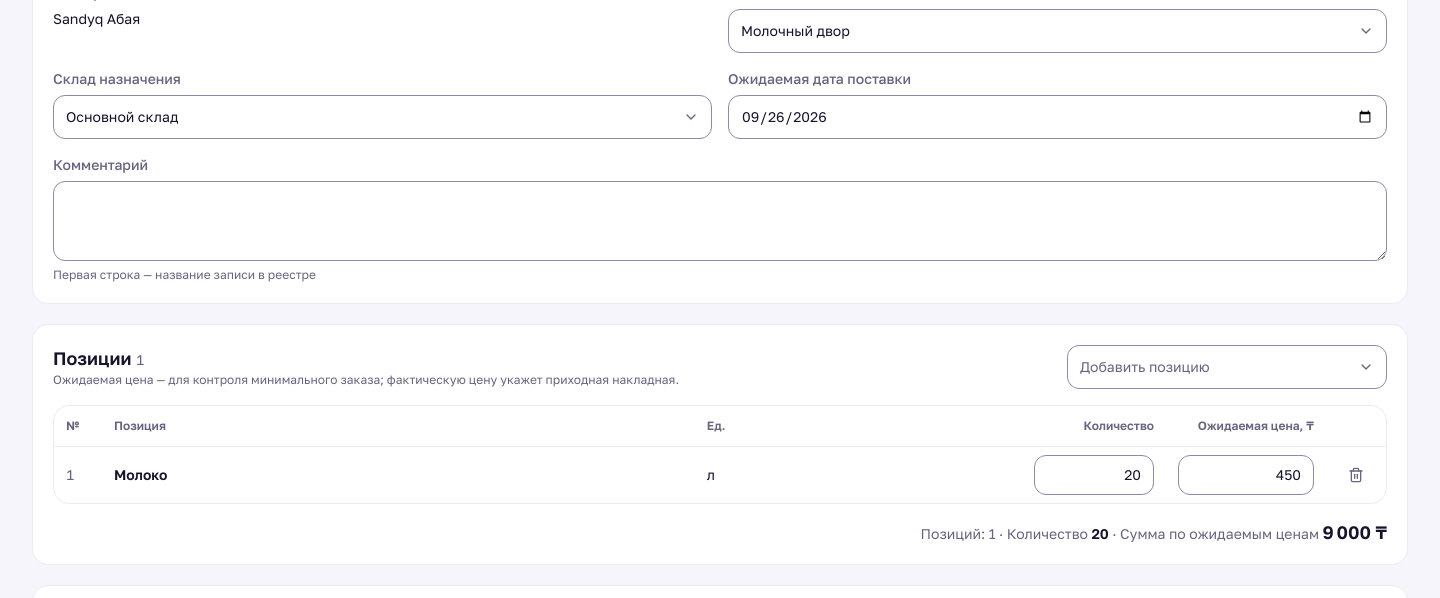
Test case: «Заказы поставщикам» (W2-PRD-06) › a saved draft shows the minimum-order warning
(page scrolled)
Replace the text in the field named "Ожидаемая цена — Молоко" with "400" at (1246, 474), box [1178, 454, 1314, 494]
(page scrolled)
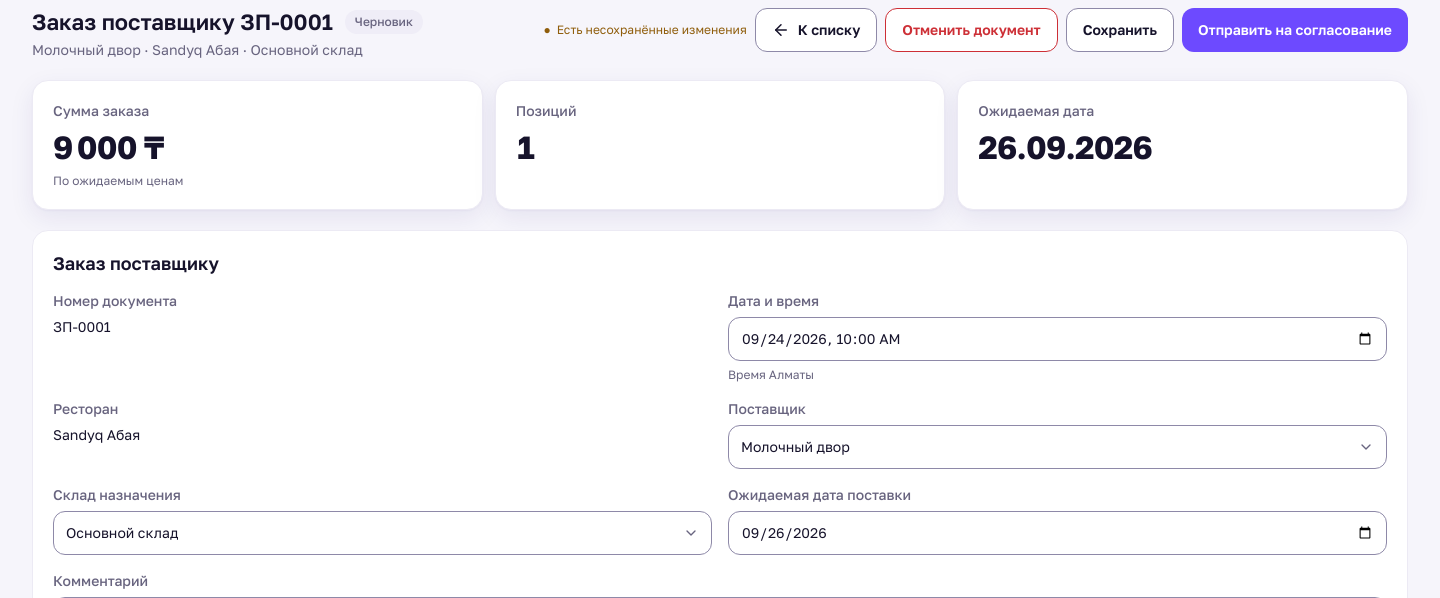
Click the button "Сохранить" at (1120, 30), box [1066, 8, 1174, 52]
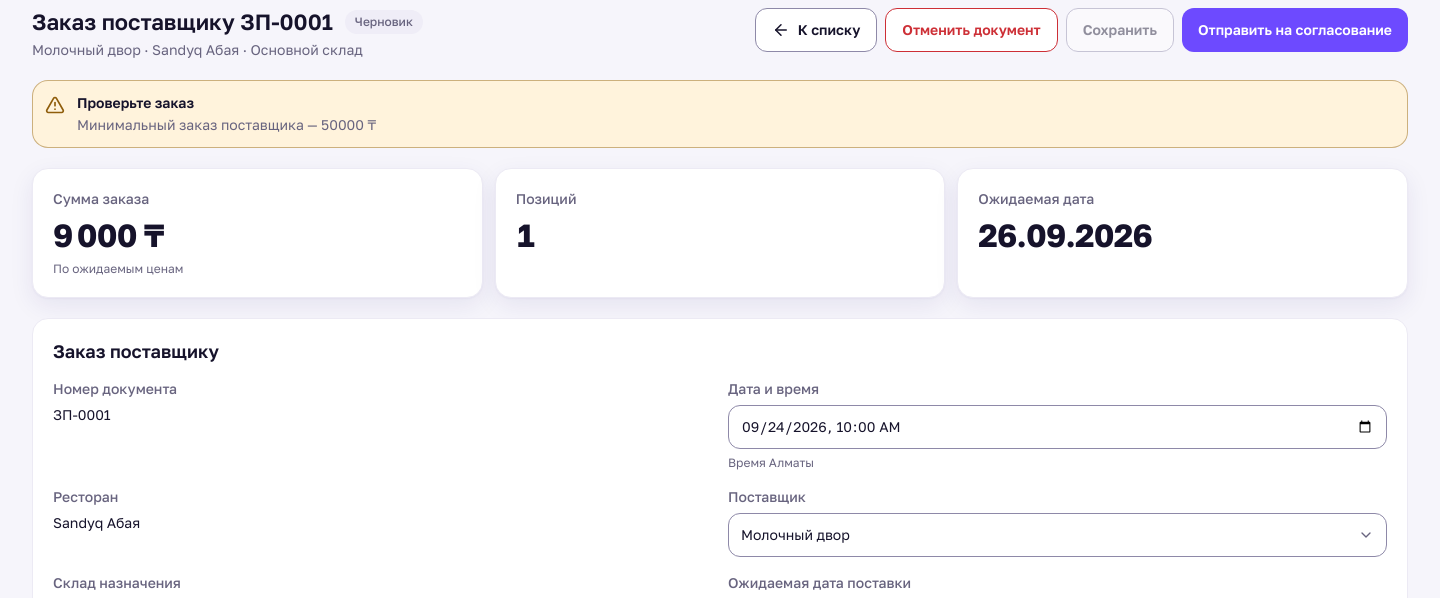
Now the text "Минимальный заказ поставщика — 50000 ₸" is shown, box [77, 116, 376, 133]
